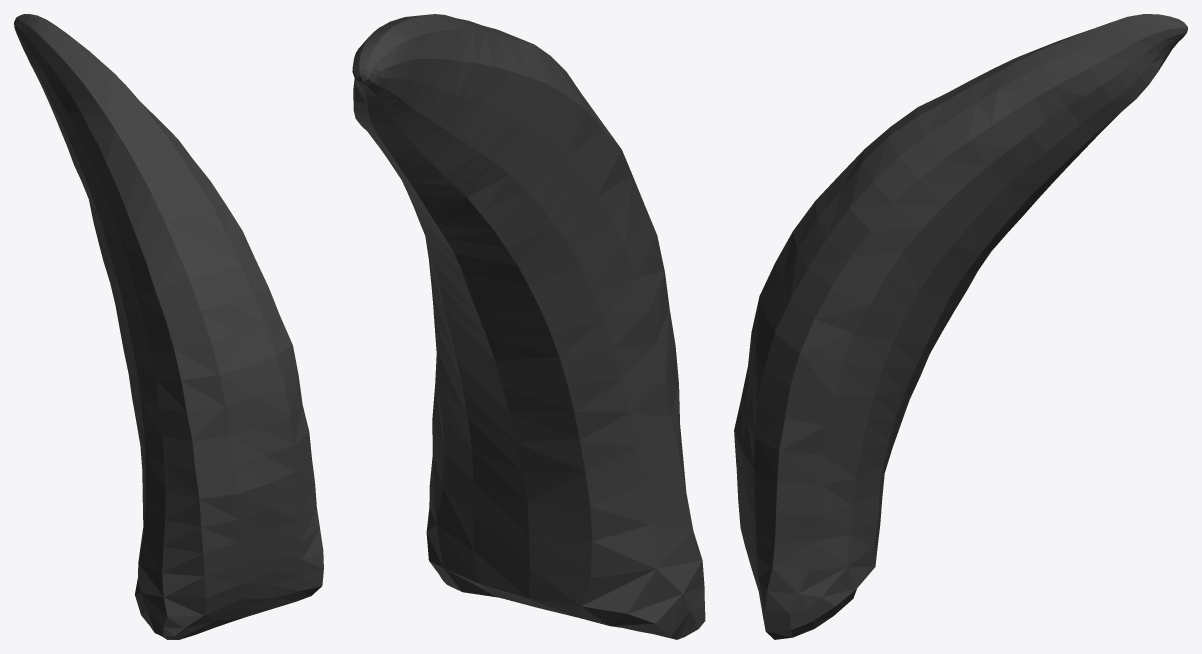
File: R_max_I1_copy000.glb
The picture shows the model from 3 angles, left to right: view 1: azimuth 30°, elevation 25°; view 2: azimuth 150°, elevation 25°; view 3: azimuth 270°, elevation 25°; orthographic projection. The views are drawn at different scales.
Visible parts, largest first — view 1: R_max_I1_copy000; view 2: R_max_I1_copy000; view 3: R_max_I1_copy000.
Boxes of the visible parts, box(x1,y1,x2,y2) form: R_max_I1_copy000: box(14, 14, 323, 639); R_max_I1_copy000: box(352, 14, 705, 639); R_max_I1_copy000: box(734, 14, 1187, 639).
Bounding box in the file's own units: 0.2947 × 0.827 × 0.596.
1 material, 1 textured.
